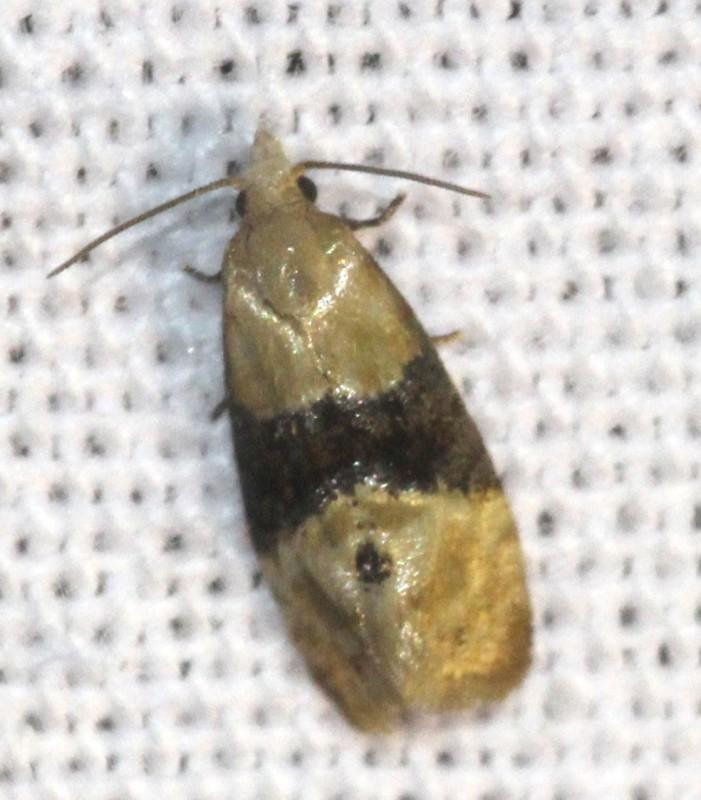Eupoecilia Ambiguella: (44, 118, 539, 738)
